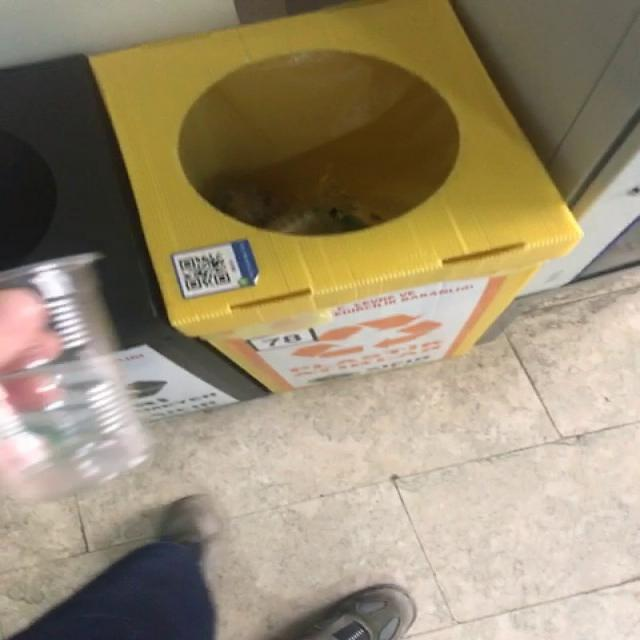plastic: (0, 253, 149, 500)
